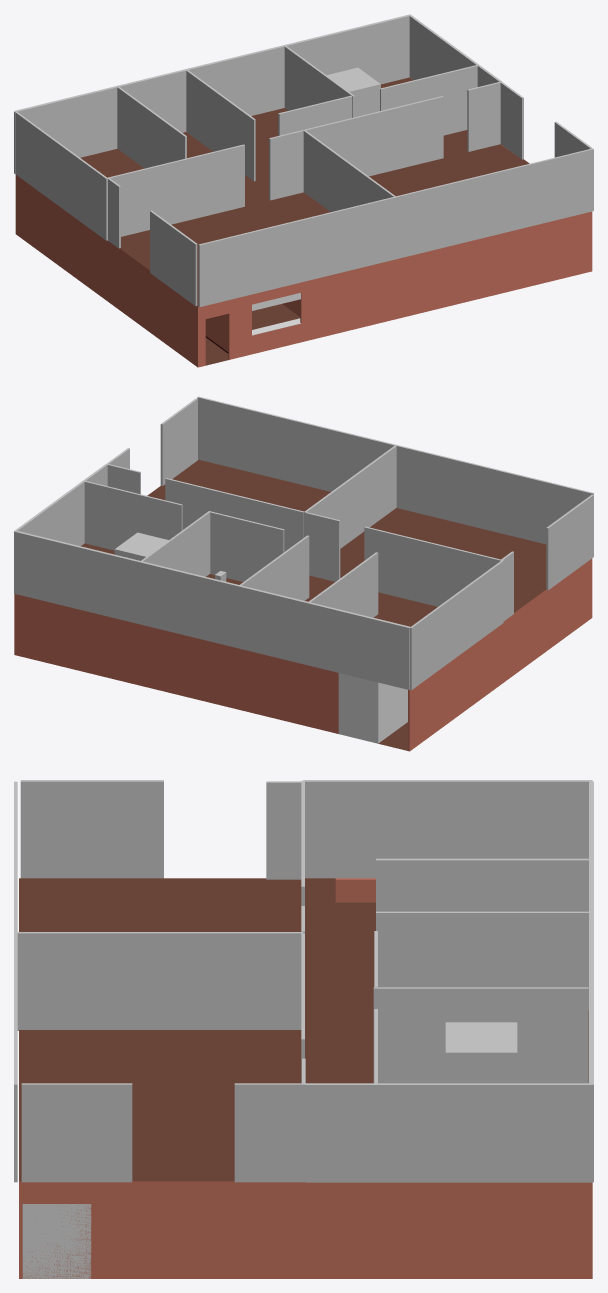
Rendered from Casa_V01.fbx.
The picture shows the model from 3 angles, top to bottom: view 1: azimuth 30°, elevation 25°; view 2: azimuth 150°, elevation 25°; view 3: azimuth 270°, elevation 25°; orthographic projection. The views are drawn at different scales.
Parts seen in each view (by area): view 1: Cube.082, Cube.001, Cube.013_Cube.014, Plane.002, Cube.004, Cube.006_Cube.007, Cube.011_Cube.012, Cube.021_Cube.026, Cube.019_Cube.023, Cube.005_Cube.006, Cube.022_Cube.027, Cube.015_Cube.019 (+14 smaller); view 2: Cube.008_Cube.018, Cube.082, Cube.008, Plane.002, Cube.004, Cube.006_Cube.007, Cube.021_Cube.026, Cube.015_Cube.019, Cube.005_Cube.006, Cube.007, Cube.011_Cube.012, Cube.020_Cube.025 (+11 smaller); view 3: Plane.002, Cube.011, Cube.014_Cube.015, Cube.005_Cube.006, Cube.021_Cube.026, Cube.006, Cube.017_Cube.021, Cube.019_Cube.023, Cube_Cube.002, Cube.022_Cube.027, Cube.009_Cube.010, Cube.010_Cube.011 (+8 smaller).
Part boxes in pixels (box(x1,y1,x2,y2)): Cube.082: box(198, 148, 593, 307); Cube.001: box(235, 211, 592, 358); Cube.013_Cube.014: box(14, 15, 409, 173); Plane.002: box(80, 77, 529, 305); Cube.004: box(15, 175, 199, 367); Cube.006_Cube.007: box(106, 144, 244, 240); Cube.011_Cube.012: box(305, 96, 443, 176); Cube.021_Cube.026: box(15, 112, 107, 240); Cube.019_Cube.023: box(186, 69, 255, 181); Cube.005_Cube.006: box(303, 130, 395, 211); Cube.022_Cube.027: box(117, 86, 186, 168); Cube.015_Cube.019: box(380, 65, 478, 135); Cube.008_Cube.018: box(14, 531, 410, 689); Cube.082: box(197, 396, 593, 544); Cube.008: box(16, 594, 338, 733); Plane.002: box(81, 459, 546, 626); Cube.004: box(408, 558, 592, 751); Cube.006_Cube.007: box(364, 526, 503, 606); Cube.021_Cube.026: box(411, 560, 503, 688); Cube.015_Cube.019: box(83, 480, 182, 550); Cube.005_Cube.006: box(304, 445, 396, 548); Cube.007: box(338, 673, 407, 743); Cube.011_Cube.012: box(165, 478, 303, 551); Cube.020_Cube.025: box(210, 511, 284, 581); Plane.002: box(19, 878, 588, 1181); Cube.011: box(258, 1182, 592, 1278); Cube.014_Cube.015: box(305, 1083, 592, 1182); Cube.005_Cube.006: box(16, 932, 303, 1030); Cube.021_Cube.026: box(303, 780, 588, 878); Cube.006: box(22, 1181, 261, 1278); Cube.017_Cube.021: box(373, 987, 588, 1083); Cube.019_Cube.023: box(376, 911, 589, 1009); Cube_Cube.002: box(20, 780, 163, 878); Cube.022_Cube.027: box(376, 858, 590, 911); Cube.009_Cube.010: box(21, 1083, 132, 1182); Cube.010_Cube.011: box(234, 1083, 305, 1182).
Size of the model in its own units: 2012 by 600 by 1617.
